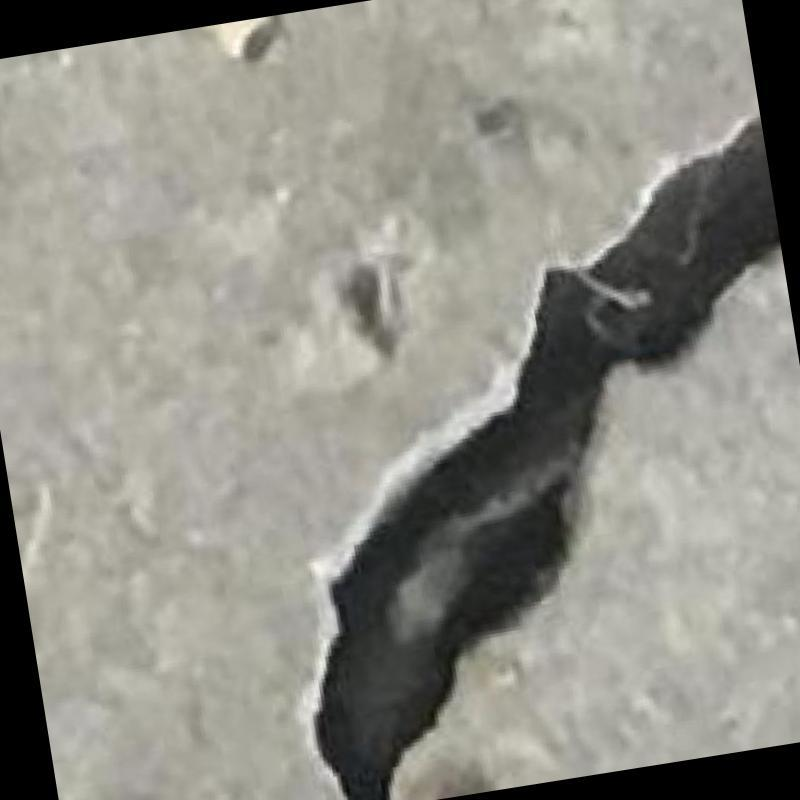pothole: (314, 115, 779, 800)
